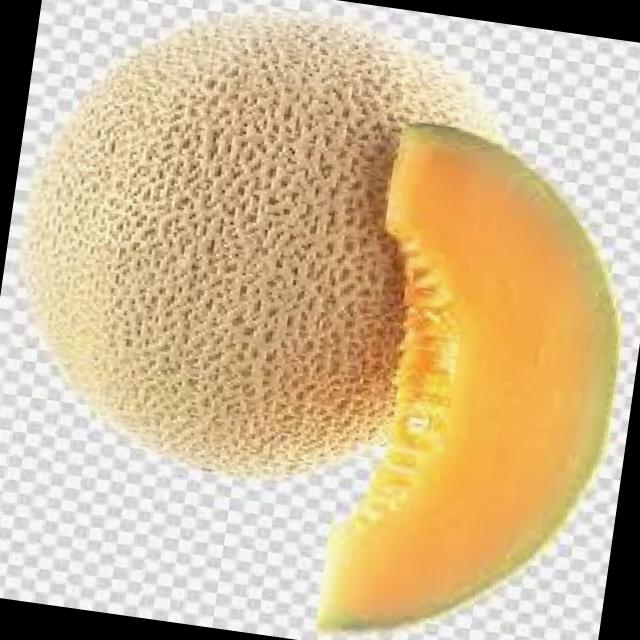cantaloupe: (0, 0, 440, 493), (311, 117, 640, 640)
